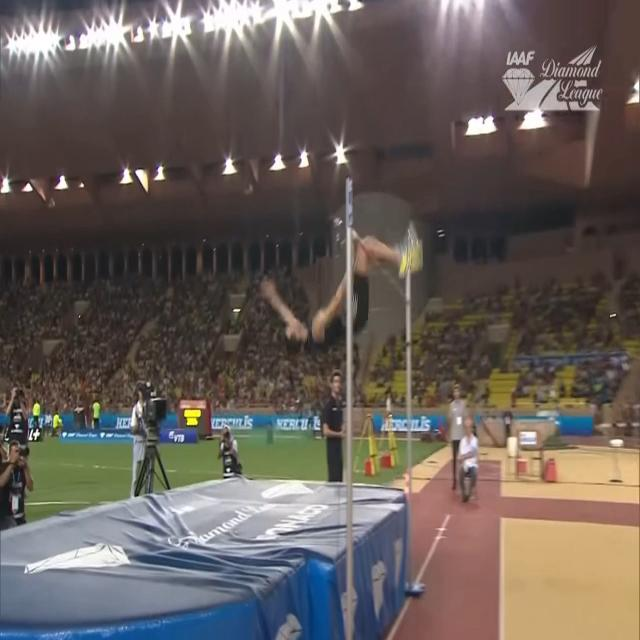land: (259, 222, 422, 355)
